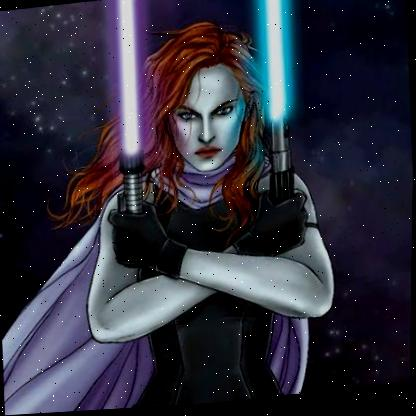lightsaber: (254, 0, 300, 208), (108, 0, 149, 216)
person: (67, 6, 348, 412)
